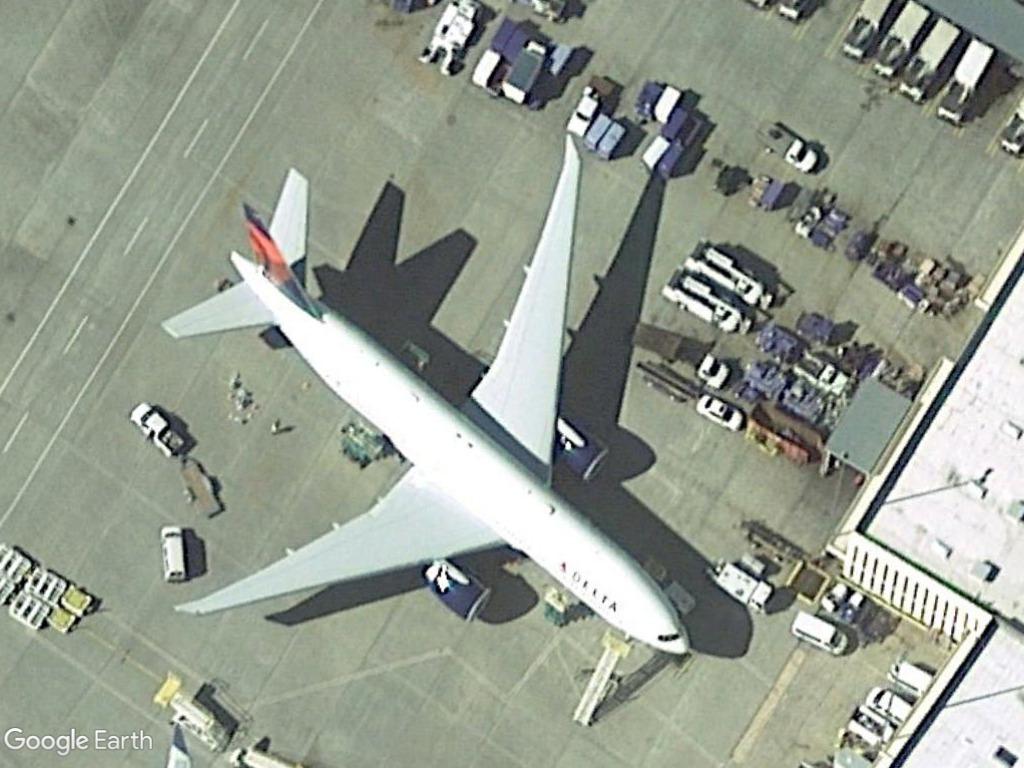airliner: (145, 124, 694, 659)
car: (690, 391, 746, 440)
other: (747, 117, 821, 174)
van: (782, 609, 855, 660), (156, 524, 192, 585)
